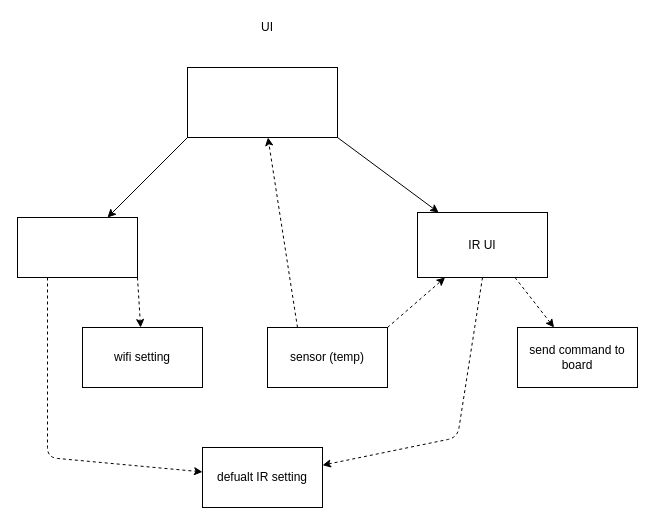
This 655x525 diagram has some shape labels left out. The shapes that lost their labels are listed below. From the top down, each one's centre as x and y in pixels, then its label:
At (262,102): "main + dashboard".
At (77,247): "setting".
